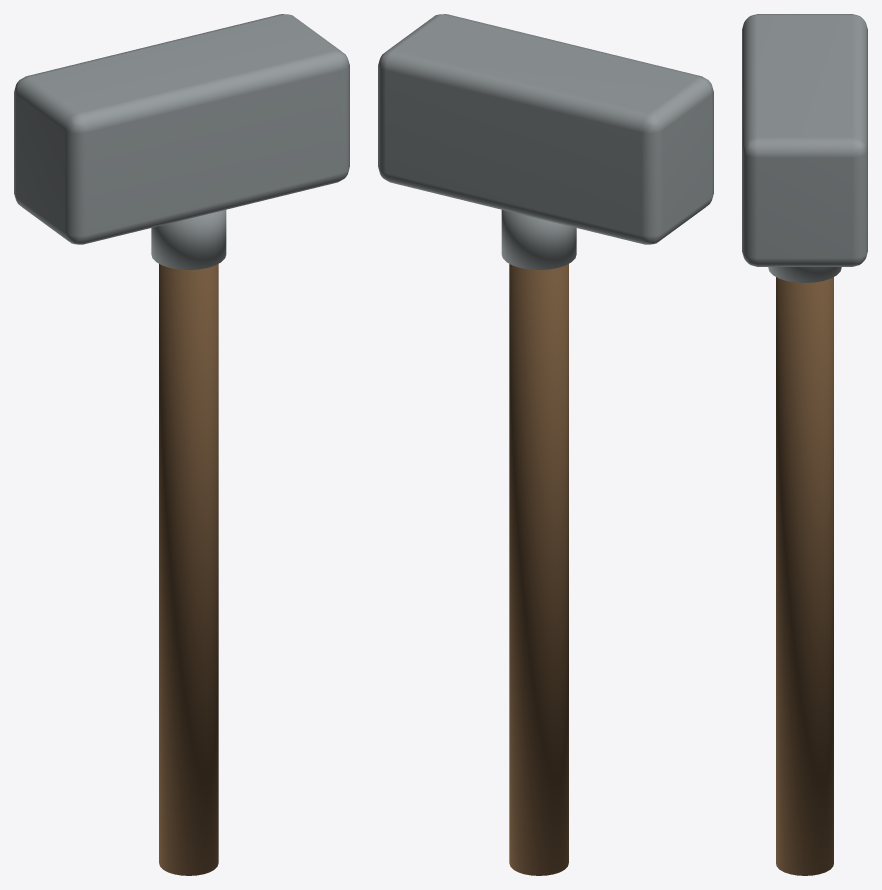
The model's file is hammer.glb.
3 renders of one model, left to right at view 1: azimuth 30°, elevation 25°; view 2: azimuth 150°, elevation 25°; view 3: azimuth 270°, elevation 25°, orthographic. The views are drawn at different scales.
Parts seen in each view (by area): view 1: HammerFace, AshHaft, HaftFerrule; view 2: HammerFace, AshHaft, HaftFerrule; view 3: AshHaft, HammerFace, HaftFerrule.
Part boxes in pixels (bbox=[...]): HammerFace: bbox=[14, 14, 349, 244]; AshHaft: bbox=[159, 264, 218, 875]; HaftFerrule: bbox=[151, 210, 226, 269]; HammerFace: bbox=[378, 14, 713, 244]; AshHaft: bbox=[509, 264, 568, 875]; HaftFerrule: bbox=[501, 210, 576, 269]; AshHaft: bbox=[776, 277, 833, 875]; HammerFace: bbox=[742, 14, 867, 266]; HaftFerrule: bbox=[768, 267, 841, 282].
Bounding box in the file's own units: 0.165 × 0.4465 × 0.065.
